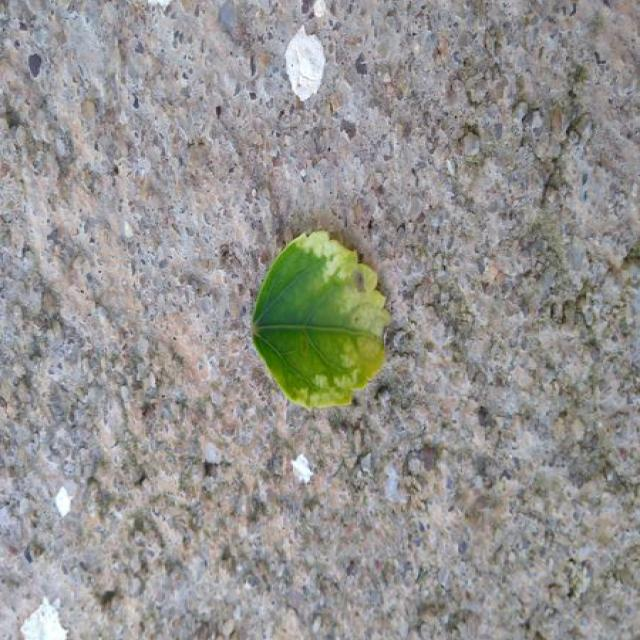Hibiscus: (252, 231, 390, 408)
